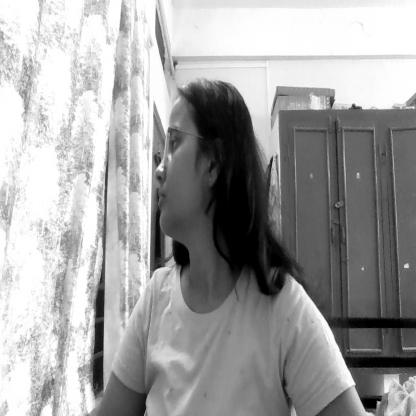Distracted: (152, 84, 250, 244)
